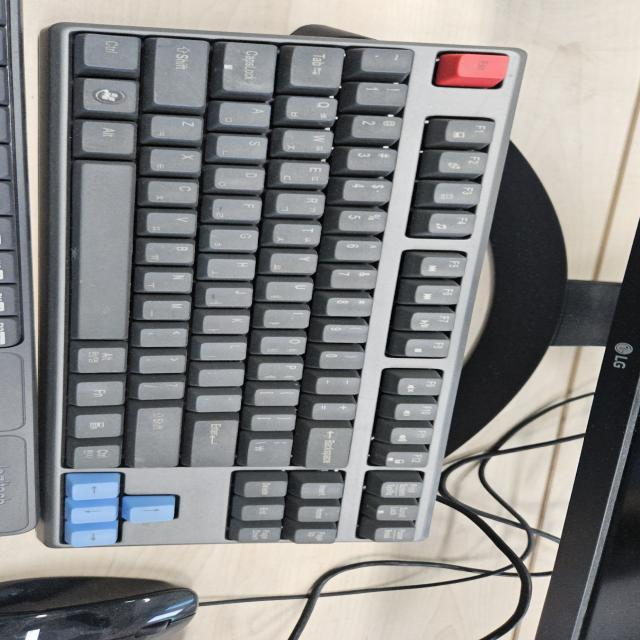Keyboard: (17, 18, 528, 548)
Mouse: (1, 574, 201, 638)
